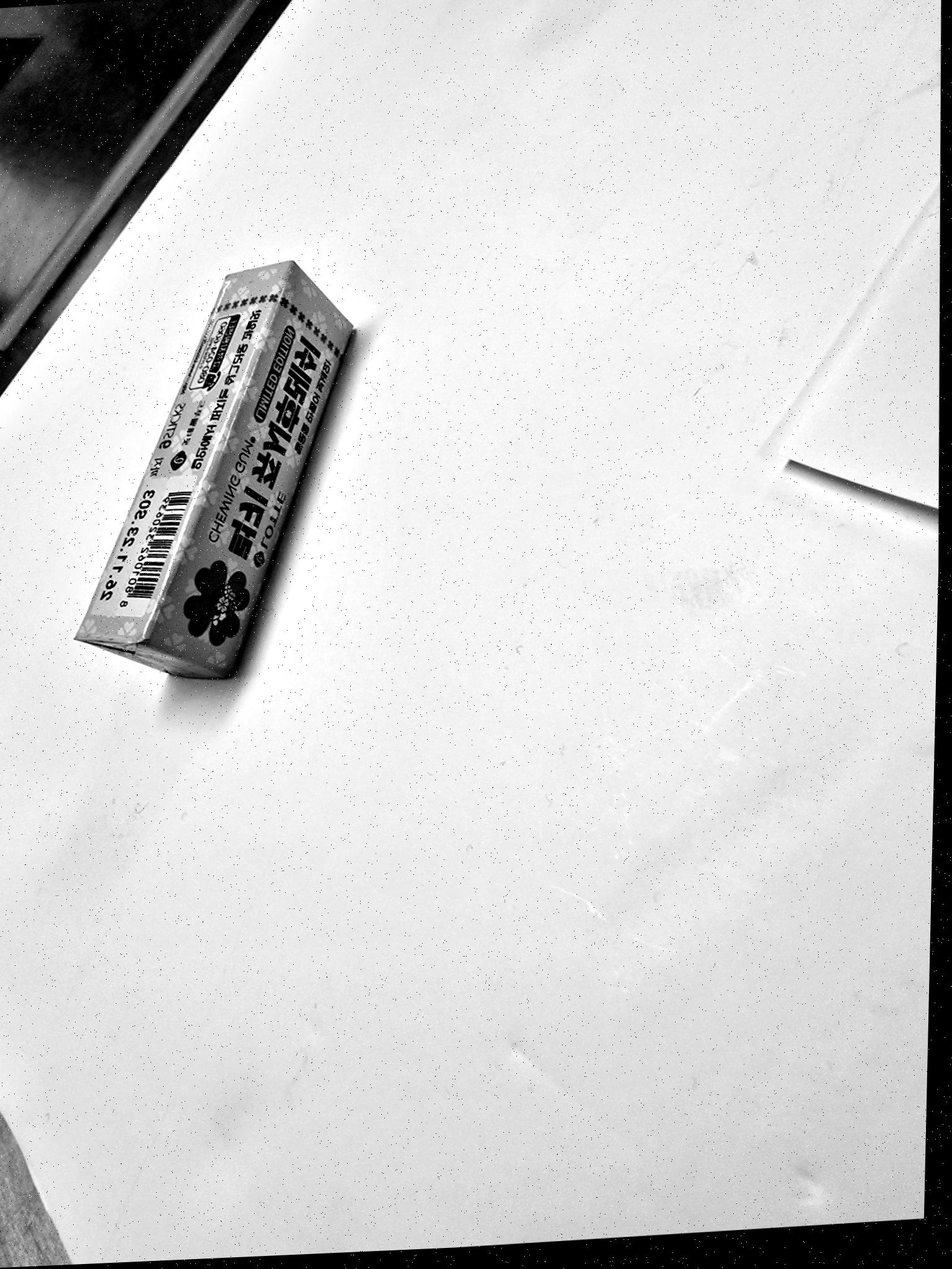gum_yellow: (76, 262, 351, 679)
